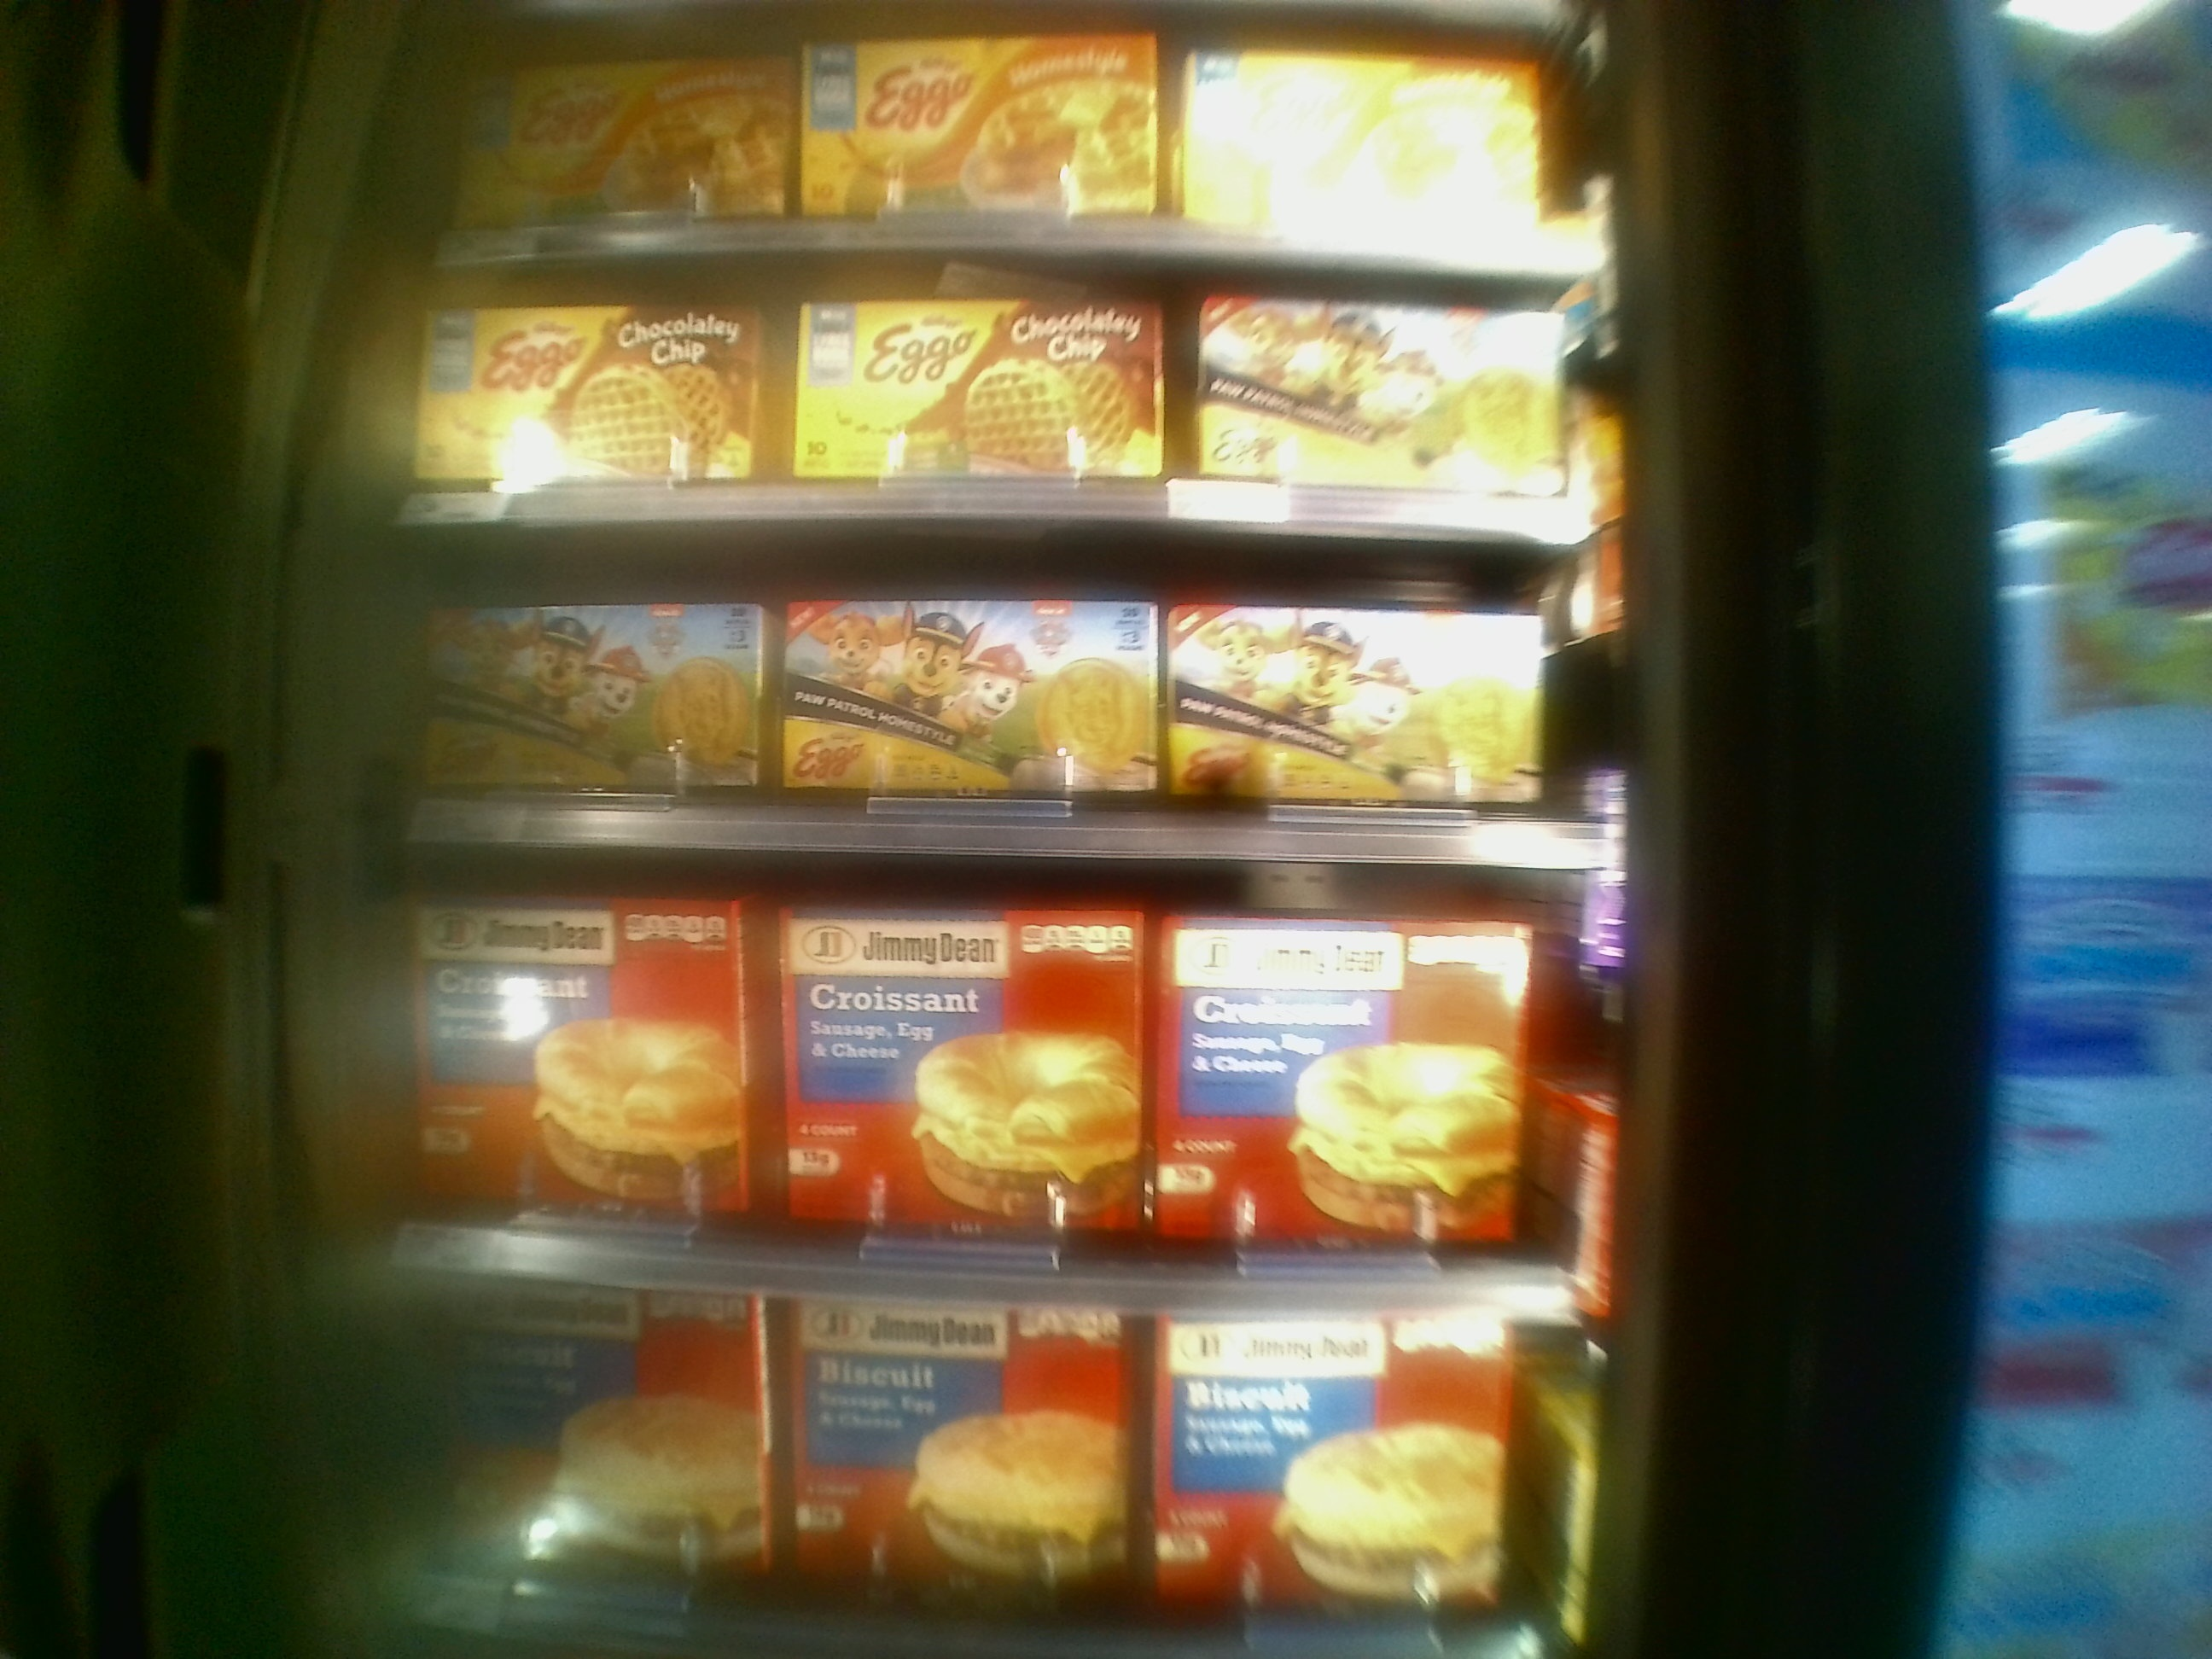shelf: (380, 528, 1609, 871)
